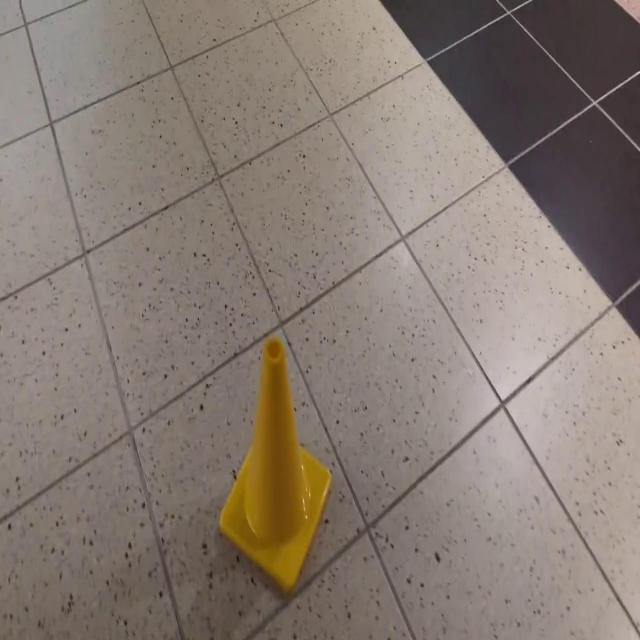frc_cone: (216, 337, 336, 591)
